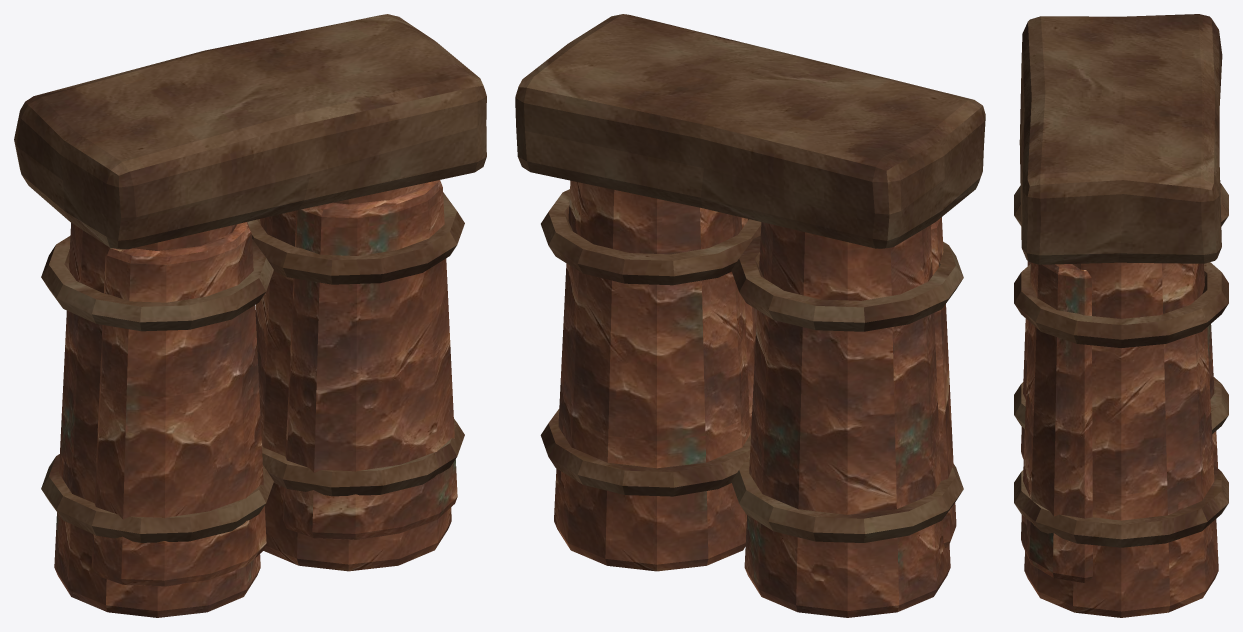
The model's file is greaves_copper.glb.
3 views of the same model, side by side, from view 1: azimuth 30°, elevation 25°; view 2: azimuth 150°, elevation 25°; view 3: azimuth 270°, elevation 25° (orthographic). The views are drawn at different scales.
Visible parts, largest first — view 1: model; view 2: model; view 3: model.
Boxes of the visible parts, x1,y1,x2,y2 form: model: (14, 14, 486, 617); model: (515, 14, 985, 617); model: (1014, 14, 1228, 617).
Bounding box in the file's own units: 0.35 × 0.4032 × 0.1755.
2 materials, 2 textured.
